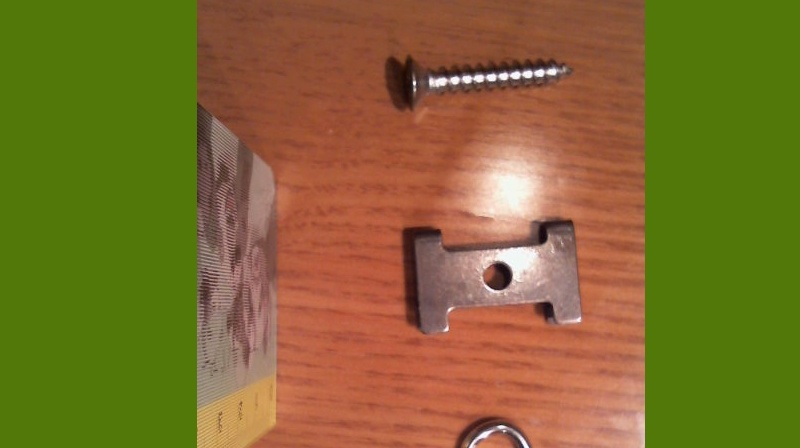O001: (454, 416, 537, 447)
O002: (406, 217, 584, 338)
S001: (396, 46, 575, 122)
